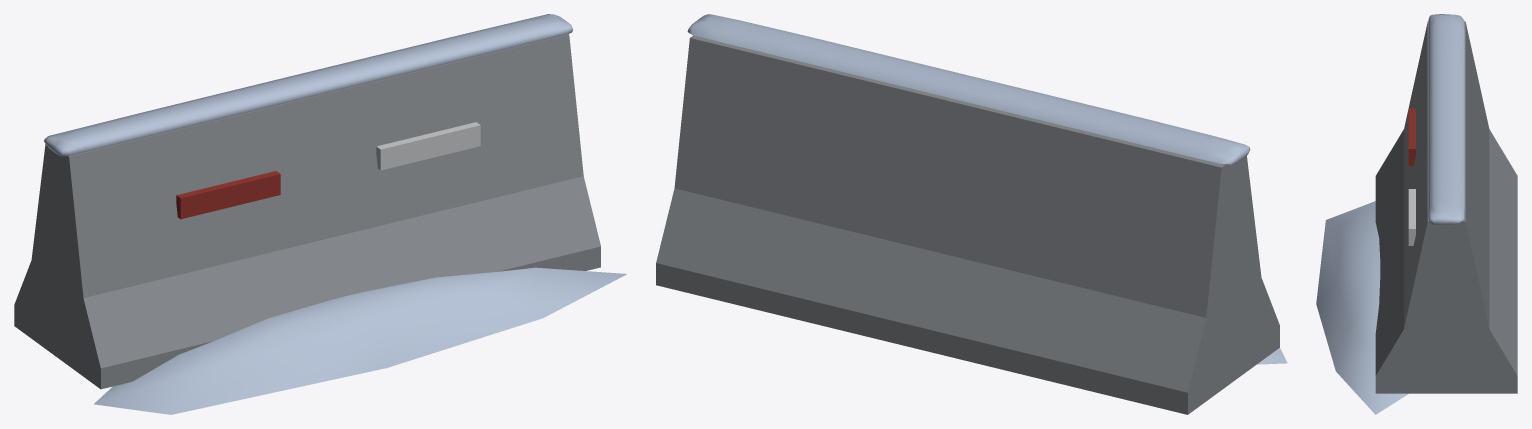
The model's file is barricade_jersey.glb.
3 renders of one model, left to right at view 1: azimuth 30°, elevation 25°; view 2: azimuth 150°, elevation 25°; view 3: azimuth 270°, elevation 25°, orthographic. The views are drawn at different scales.
Parts seen in each view (by area): view 1: Prop; view 2: Prop; view 3: Prop.
Part boxes in pixels (x1,y1,x2,y2): Prop: [14, 14, 626, 414]; Prop: [656, 14, 1287, 414]; Prop: [1316, 14, 1517, 414].
Size of the model in its own units: 2.14 by 0.8925 by 0.8507.
